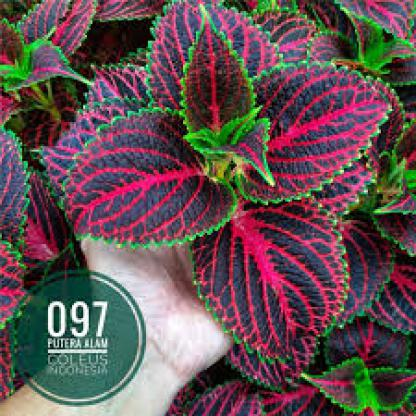Bunga Coleus: (55, 27, 375, 300)
